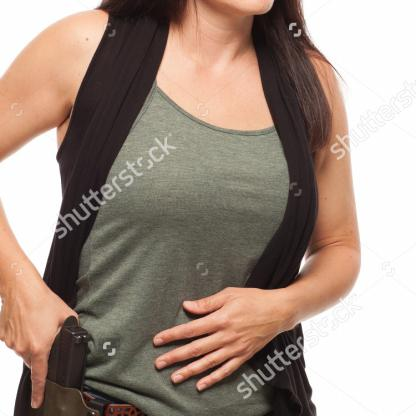gun: (15, 312, 96, 416)
